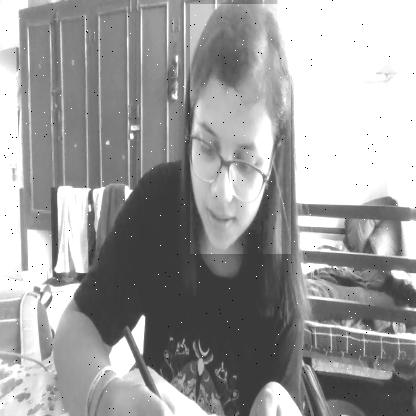Distracted: (190, 5, 291, 254)
